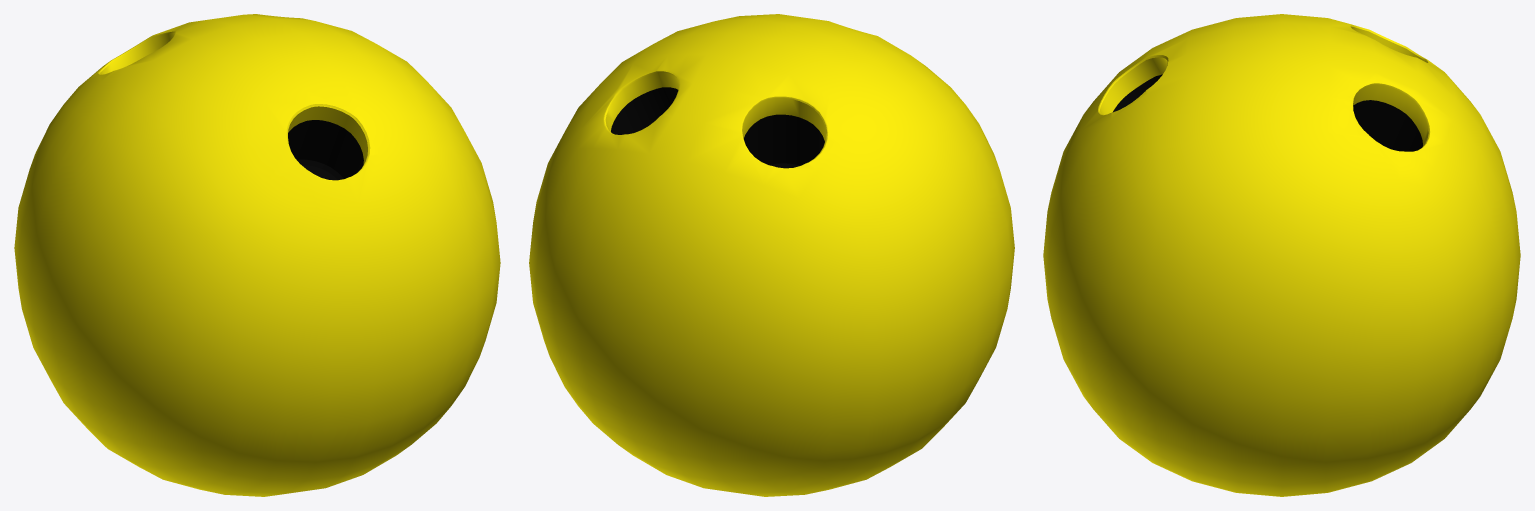
The model's file is BoulingG.fbx.
The picture shows the model from 3 angles, left to right: view 1: azimuth 30°, elevation 25°; view 2: azimuth 150°, elevation 25°; view 3: azimuth 270°, elevation 25°; orthographic projection.
Parts seen in each view (by area): view 1: Cube.012; view 2: Cube.012; view 3: Cube.012.
Part boxes in pixels (x1,y1,x2,y2): Cube.012: (14, 14, 500, 496); Cube.012: (529, 14, 1014, 496); Cube.012: (1043, 14, 1520, 496).
Size of the model in its own units: 159 by 159 by 159.
